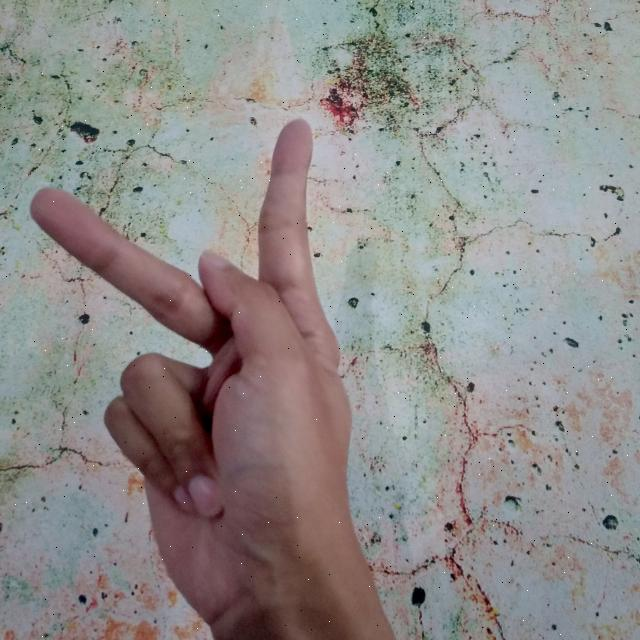K: (30, 115, 399, 640)
